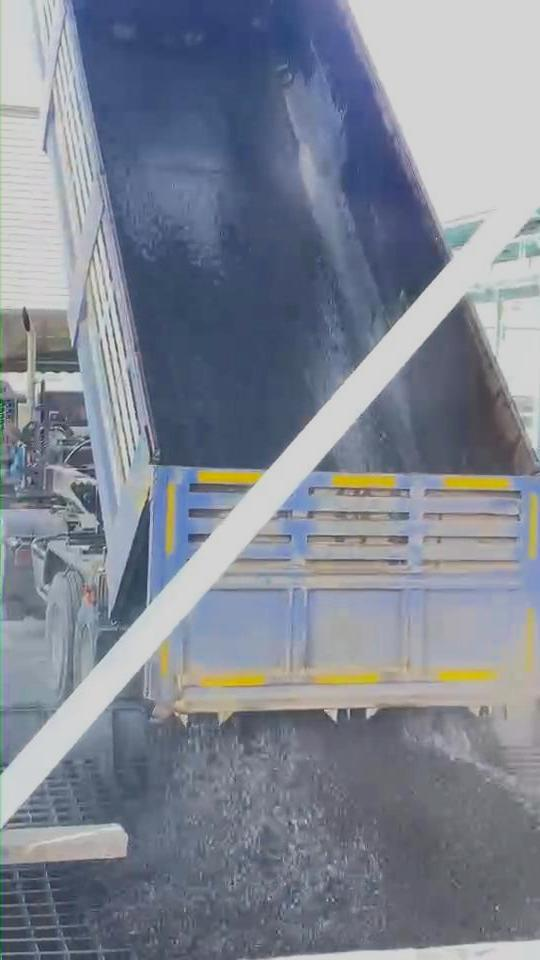gravel: (98, 714, 540, 959), (114, 88, 372, 466)
